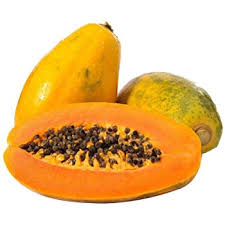papaya: (6, 103, 202, 203), (13, 24, 119, 123), (117, 73, 221, 157)
